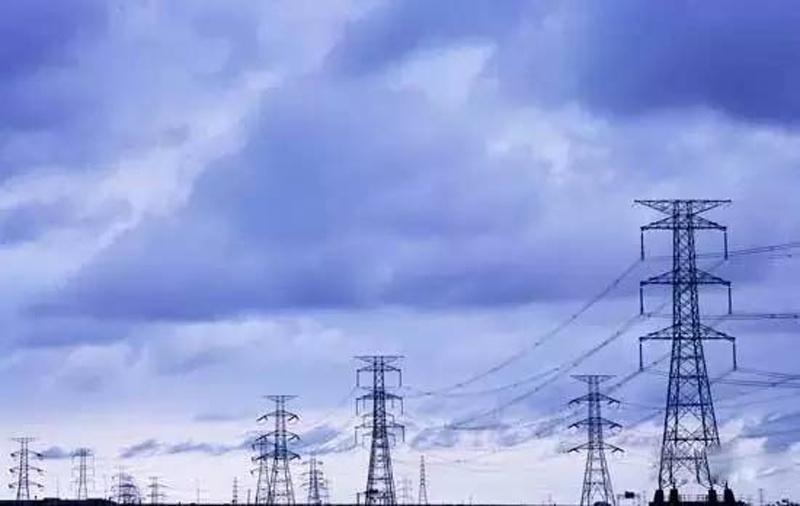power_tower: (631, 195, 740, 499), (565, 368, 628, 506), (352, 353, 408, 506), (254, 393, 301, 504), (6, 434, 44, 500), (250, 434, 276, 506), (68, 446, 96, 502), (107, 455, 136, 504), (301, 449, 325, 506), (412, 454, 432, 506), (146, 472, 168, 506), (230, 476, 241, 503)
